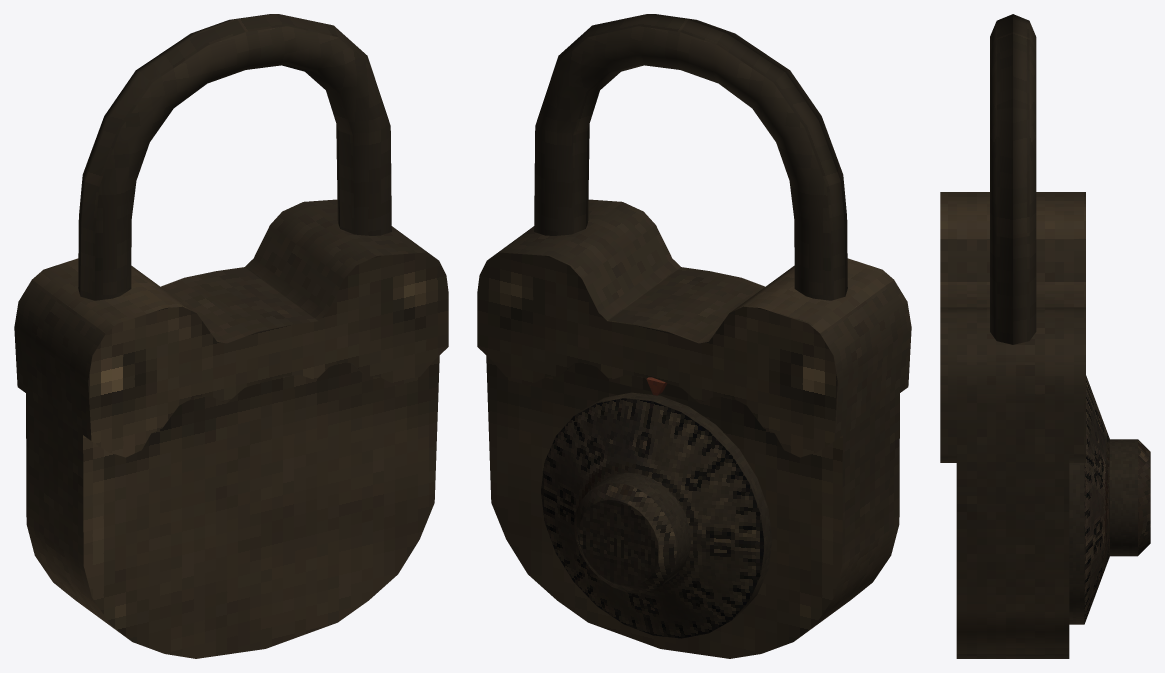
Rendered from padlock_3.glb.
3 renders of one model, left to right at view 1: azimuth 30°, elevation 25°; view 2: azimuth 150°, elevation 25°; view 3: azimuth 270°, elevation 25°, orthographic.
Visible parts, largest first — view 1: padlock_3; view 2: padlock_3, knob_2; view 3: padlock_3, knob_2.
Boxes of the visible parts, <box> form: padlock_3: <box>14,14,448,658</box>; padlock_3: <box>477,14,911,658</box>; knob_2: <box>541,392,772,638</box>; padlock_3: <box>940,14,1085,658</box>; knob_2: <box>1069,375,1150,624</box>.
Size of the model in its own units: 0.0805 by 0.1299 by 0.0413.
Materials: 1 (1 with a texture image).
